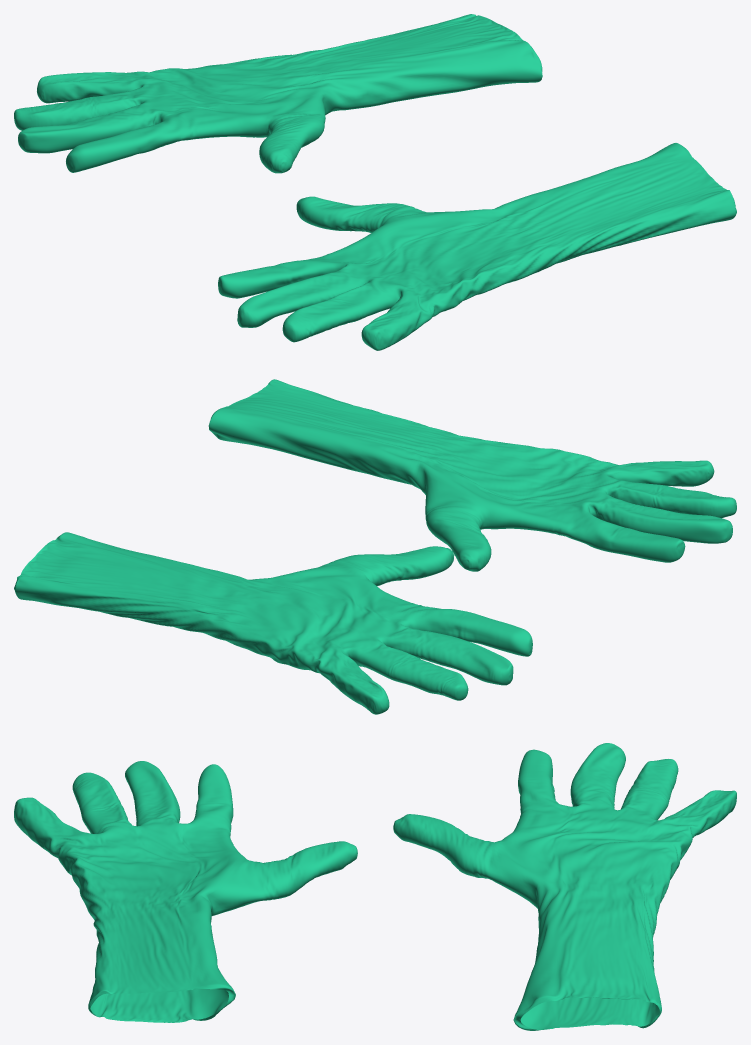
Rendered from gloves.fbx.
3 views of the same model, one above another, from view 1: azimuth 30°, elevation 25°; view 2: azimuth 150°, elevation 25°; view 3: azimuth 270°, elevation 25° (orthographic). The views are drawn at different scales.
Visible parts, largest first — view 1: Glove1, Glove2; view 2: Glove2, Glove1; view 3: Glove2, Glove1.
Part boxes in pixels (bbox=[...]): Glove1: bbox=[218, 143, 736, 350]; Glove2: bbox=[14, 14, 542, 173]; Glove2: bbox=[14, 532, 532, 714]; Glove1: bbox=[208, 379, 736, 571]; Glove2: bbox=[393, 743, 736, 1030]; Glove1: bbox=[14, 761, 357, 1022].
Size of the model in its own units: 499 by 47.34 by 605.
